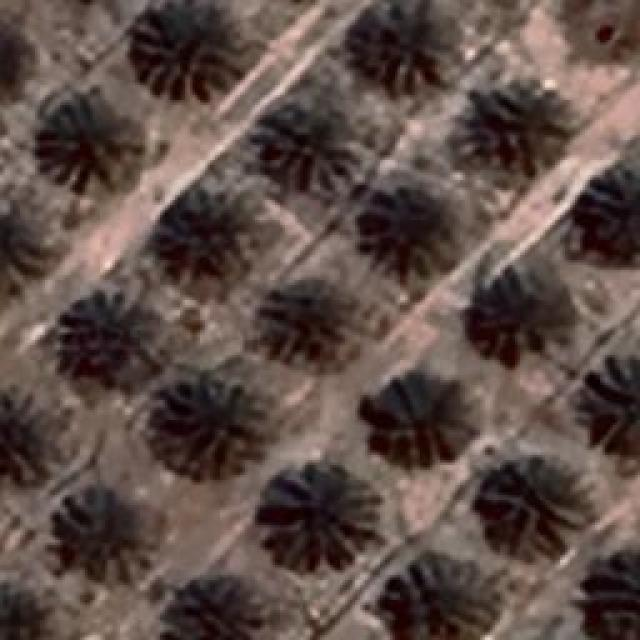PalmTree: (115, 58, 615, 594), (50, 92, 215, 611), (252, 460, 378, 570), (34, 94, 148, 198), (480, 454, 590, 558), (155, 372, 260, 480), (130, 2, 245, 100), (257, 90, 365, 188), (48, 294, 162, 386), (164, 178, 252, 288), (484, 264, 576, 364), (264, 276, 358, 372), (388, 558, 500, 638), (364, 186, 458, 276), (379, 384, 479, 468), (474, 96, 566, 176), (60, 488, 140, 572), (582, 160, 638, 252), (584, 355, 638, 450), (350, 0, 428, 60), (0, 203, 46, 295), (0, 390, 46, 480), (0, 583, 45, 640), (0, 22, 27, 114), (0, 21, 18, 110)
